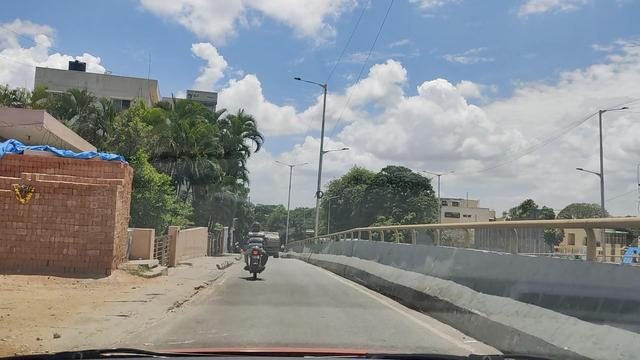RoadDamages: (169, 277, 223, 311)
